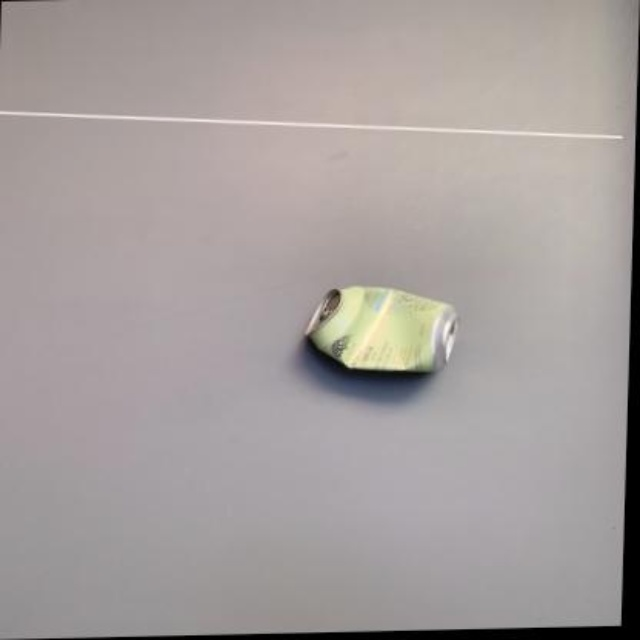trash: (305, 286, 457, 371)
